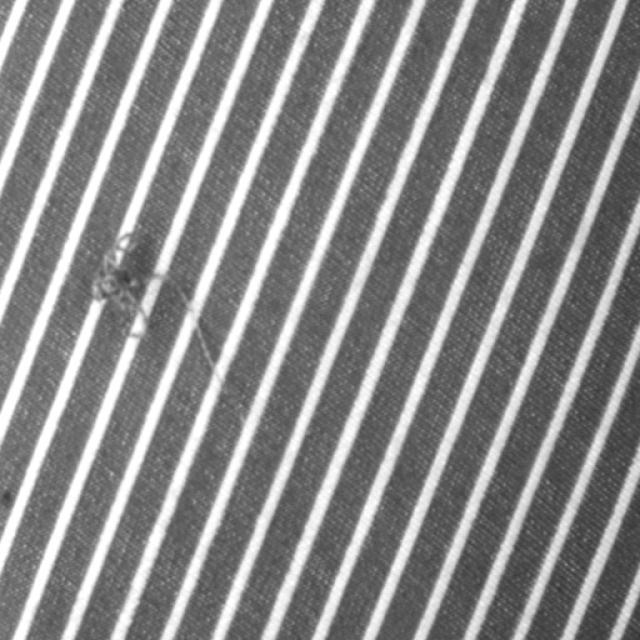Foreign-Body-Defect: (90, 240, 241, 424)
